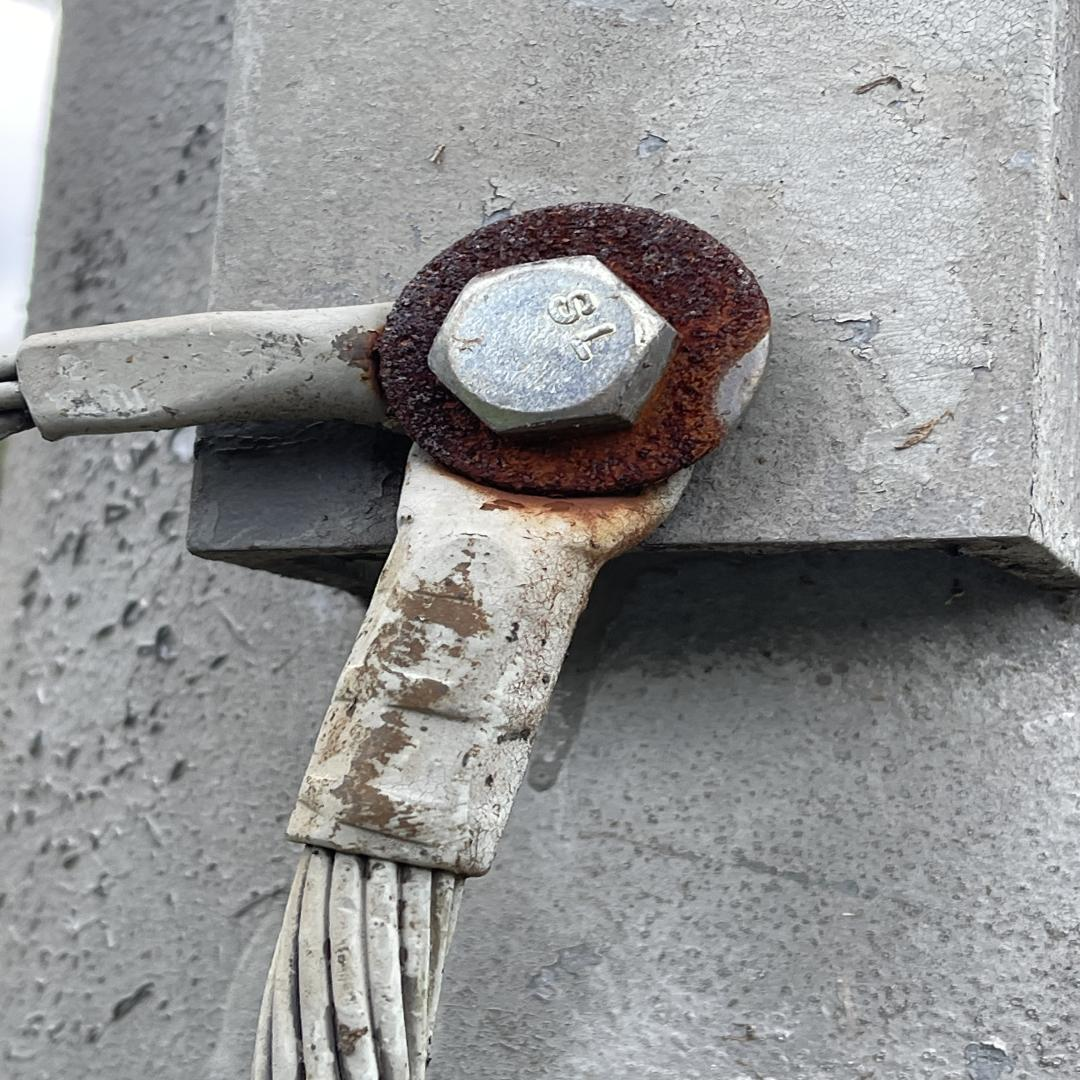Metal: (0, 0, 1080, 1080)
Metal corroido: (364, 204, 777, 558)
Tornillo sin corrosion: (427, 253, 677, 441)
